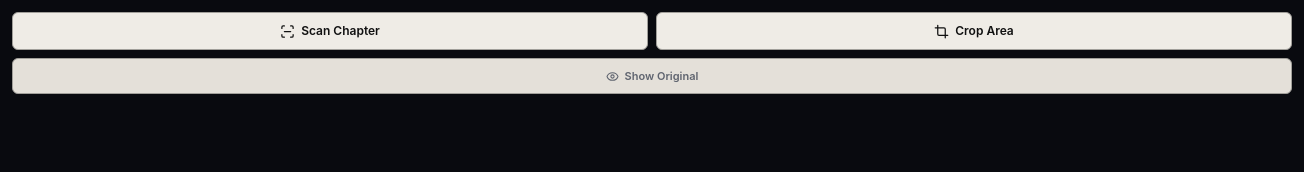
it: HomeQuickActions › shows and toggles Show Original / Show Translated when translated pages exist
Click the button "Show Original".
click(652, 76)  # box x1=12 y1=58 x2=1292 y2=94
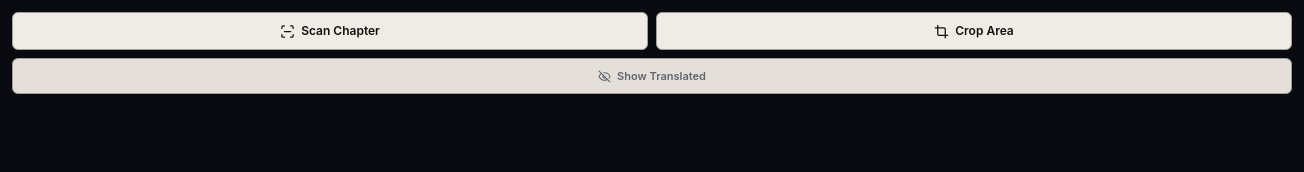
Check: the button "Show Translated" is shown, box x1=12 y1=58 x2=1292 y2=94
